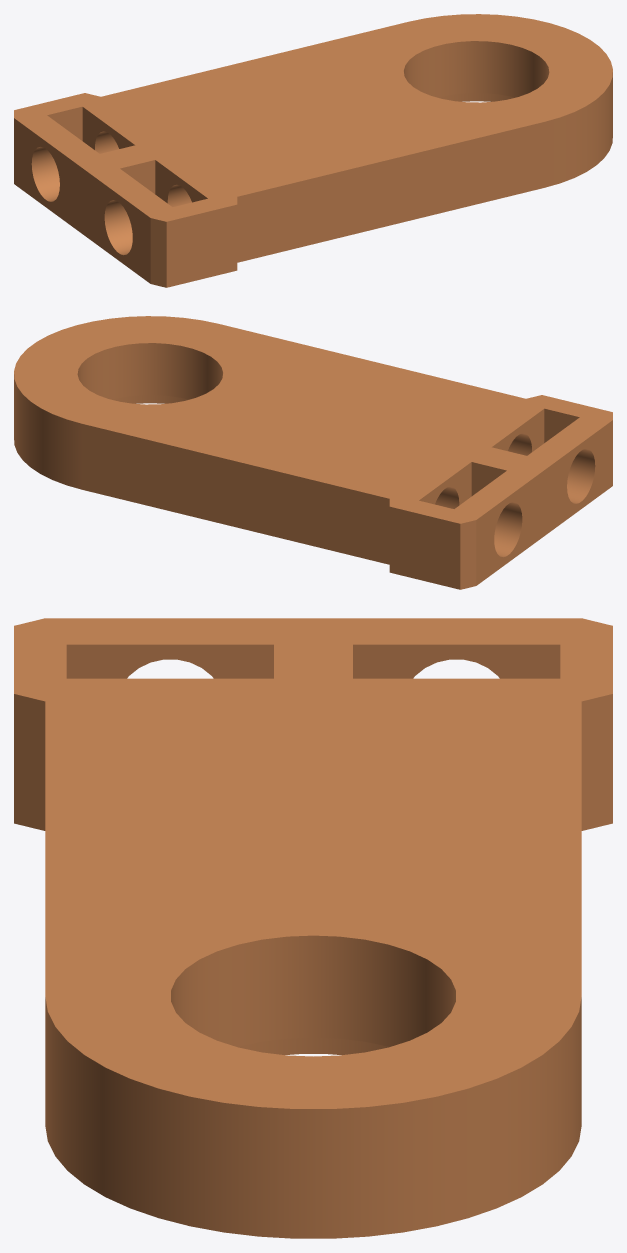
Rendered from MechaFerris-BearingBracket.gltf.
3 renders of one model, top to bottom at view 1: azimuth 30°, elevation 25°; view 2: azimuth 150°, elevation 25°; view 3: azimuth 270°, elevation 25°, orthographic. The views are drawn at different scales.
Parts seen in each view (by area): view 1: Body; view 2: Body; view 3: Body.
Boxes of the visible parts, box(x1,y1,x2,y2) form: Body: box(14, 14, 612, 287); Body: box(14, 316, 612, 589); Body: box(14, 618, 612, 1238).
Bounding box in the file's own units: 0.0325 × 0.004 × 0.0168.
